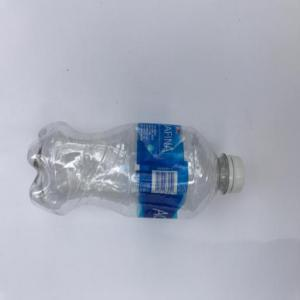Plastic-bottle: (27, 120, 246, 223)
